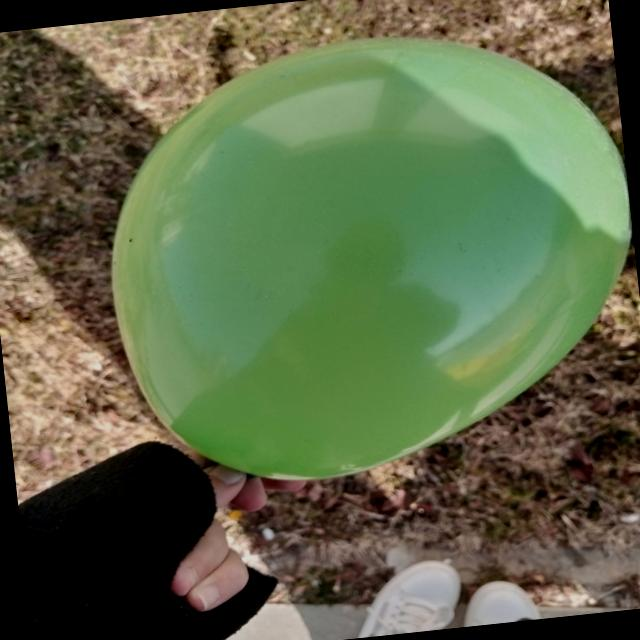balloon: (112, 38, 631, 478)
